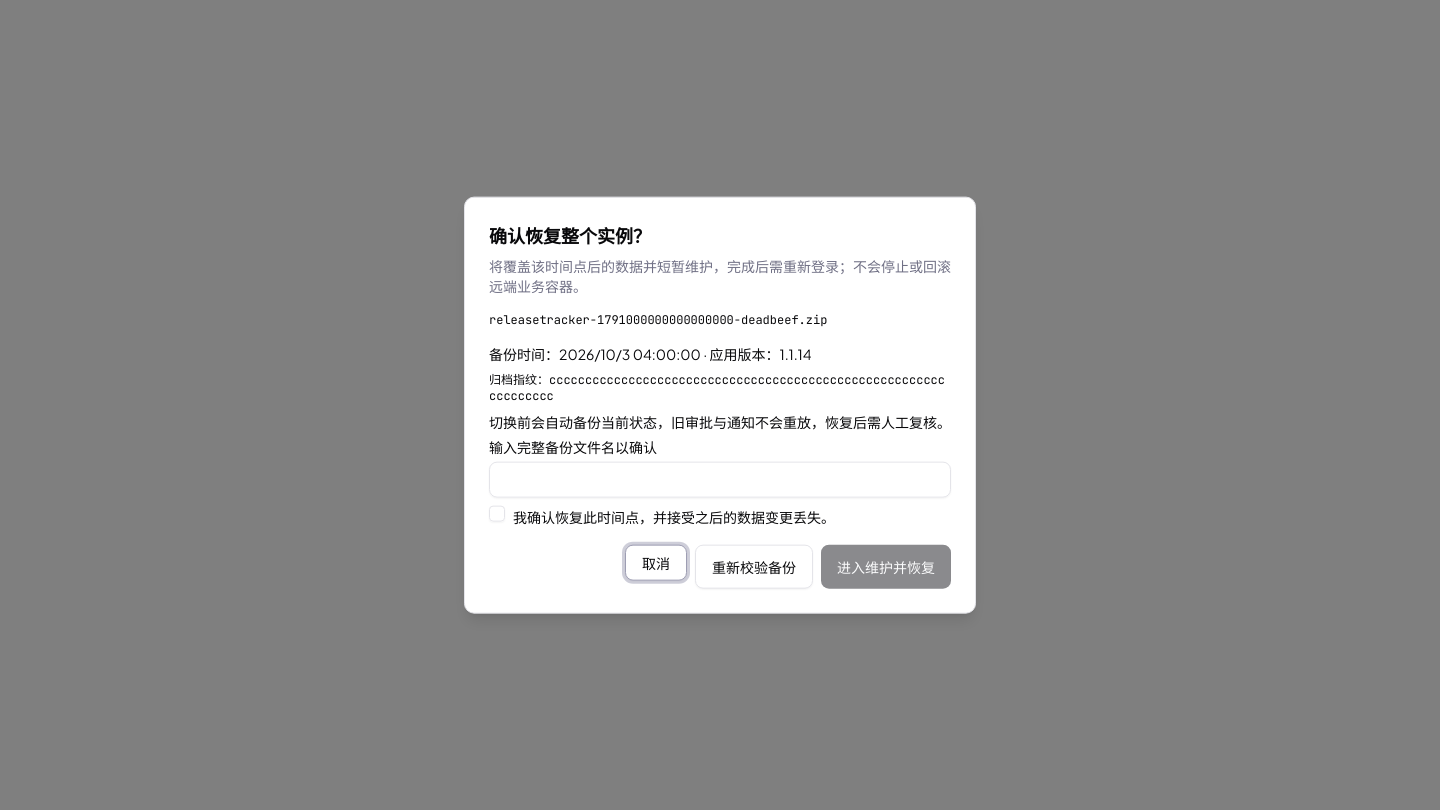
Test: online restore review › refuses stale approval with actionable error rather than dismissing dialog
Step 1. Type "releasetracker-1791000000000000000-deadbeef.zip" into the field labelled "输入完整备份文件名以确认" → (720, 480), box [489, 462, 951, 498]
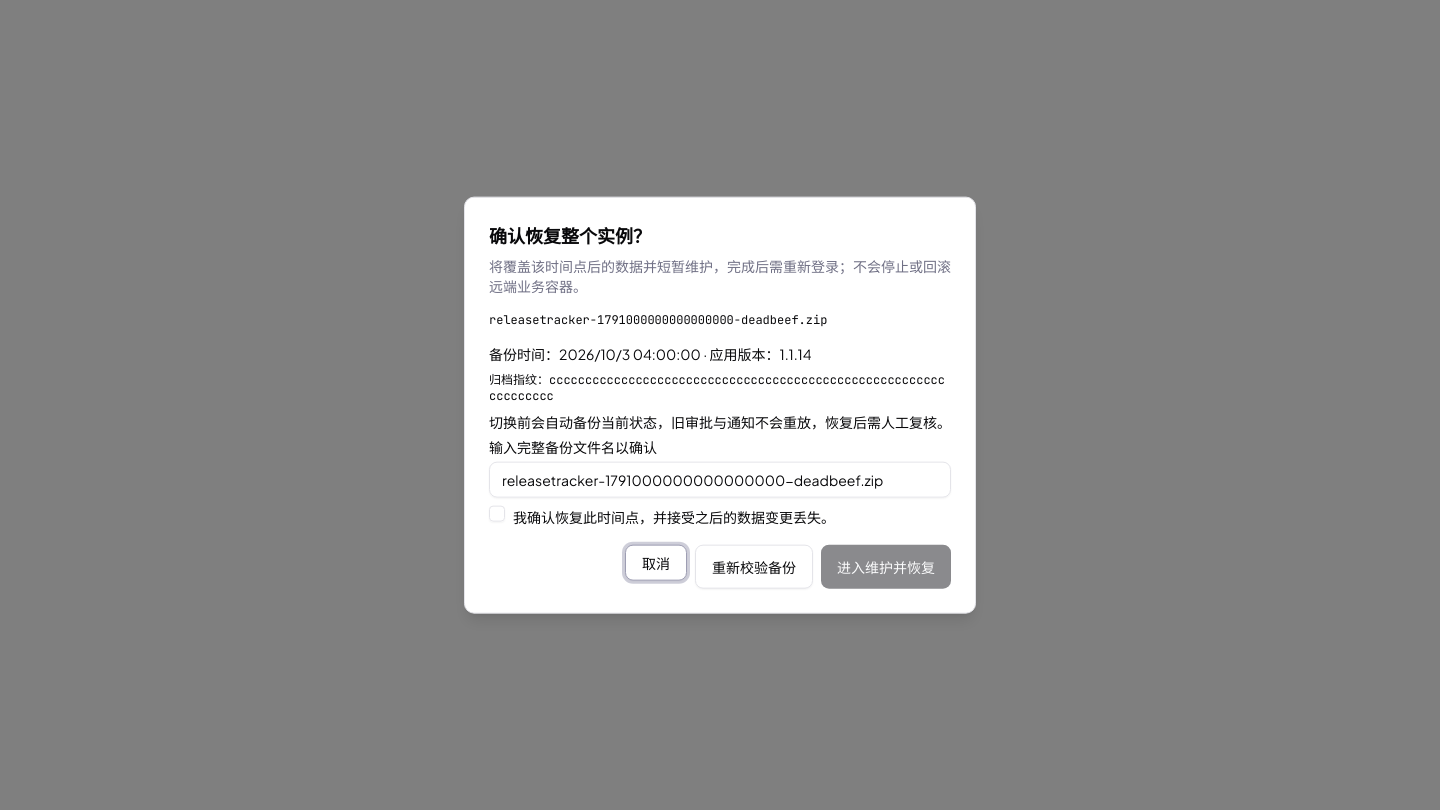
Step 2. Click the checkbox → (497, 514), box [489, 506, 505, 522]
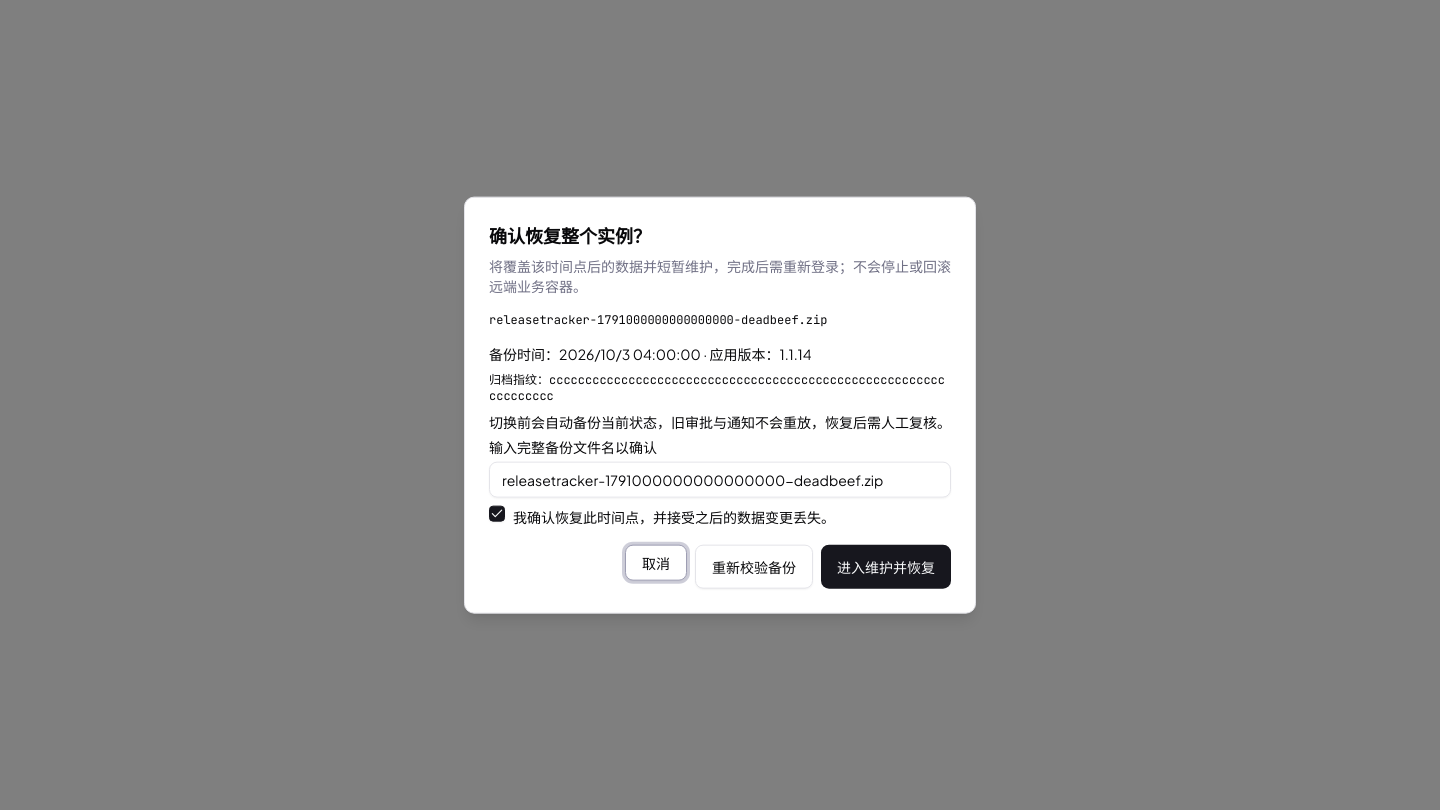
Step 3. Click the button "进入维护并恢复" → (886, 566), box [821, 544, 951, 588]
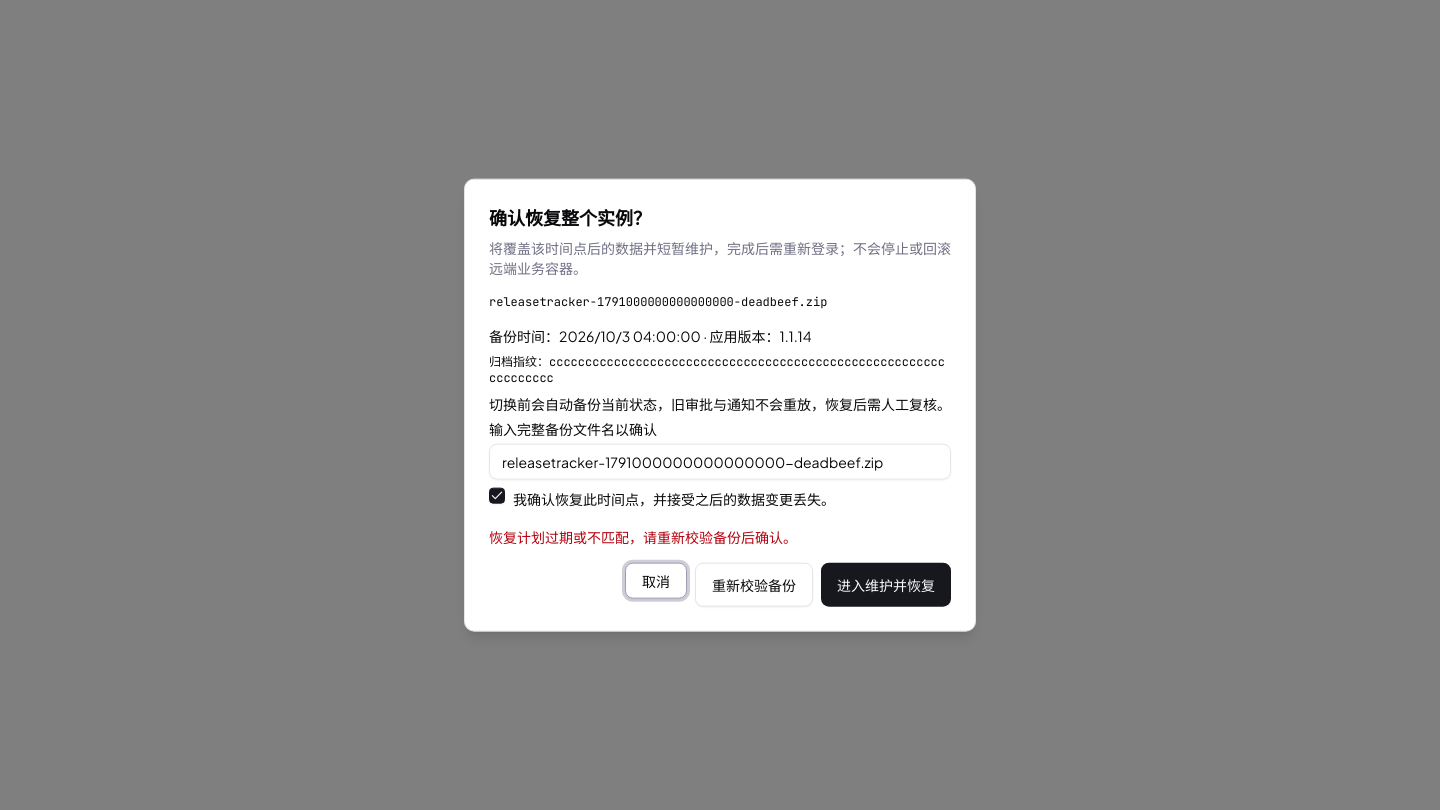
Expected: the dialog is shown, [464, 179, 976, 631]
Now the message shows "重新校验备份", box [489, 527, 797, 545]
